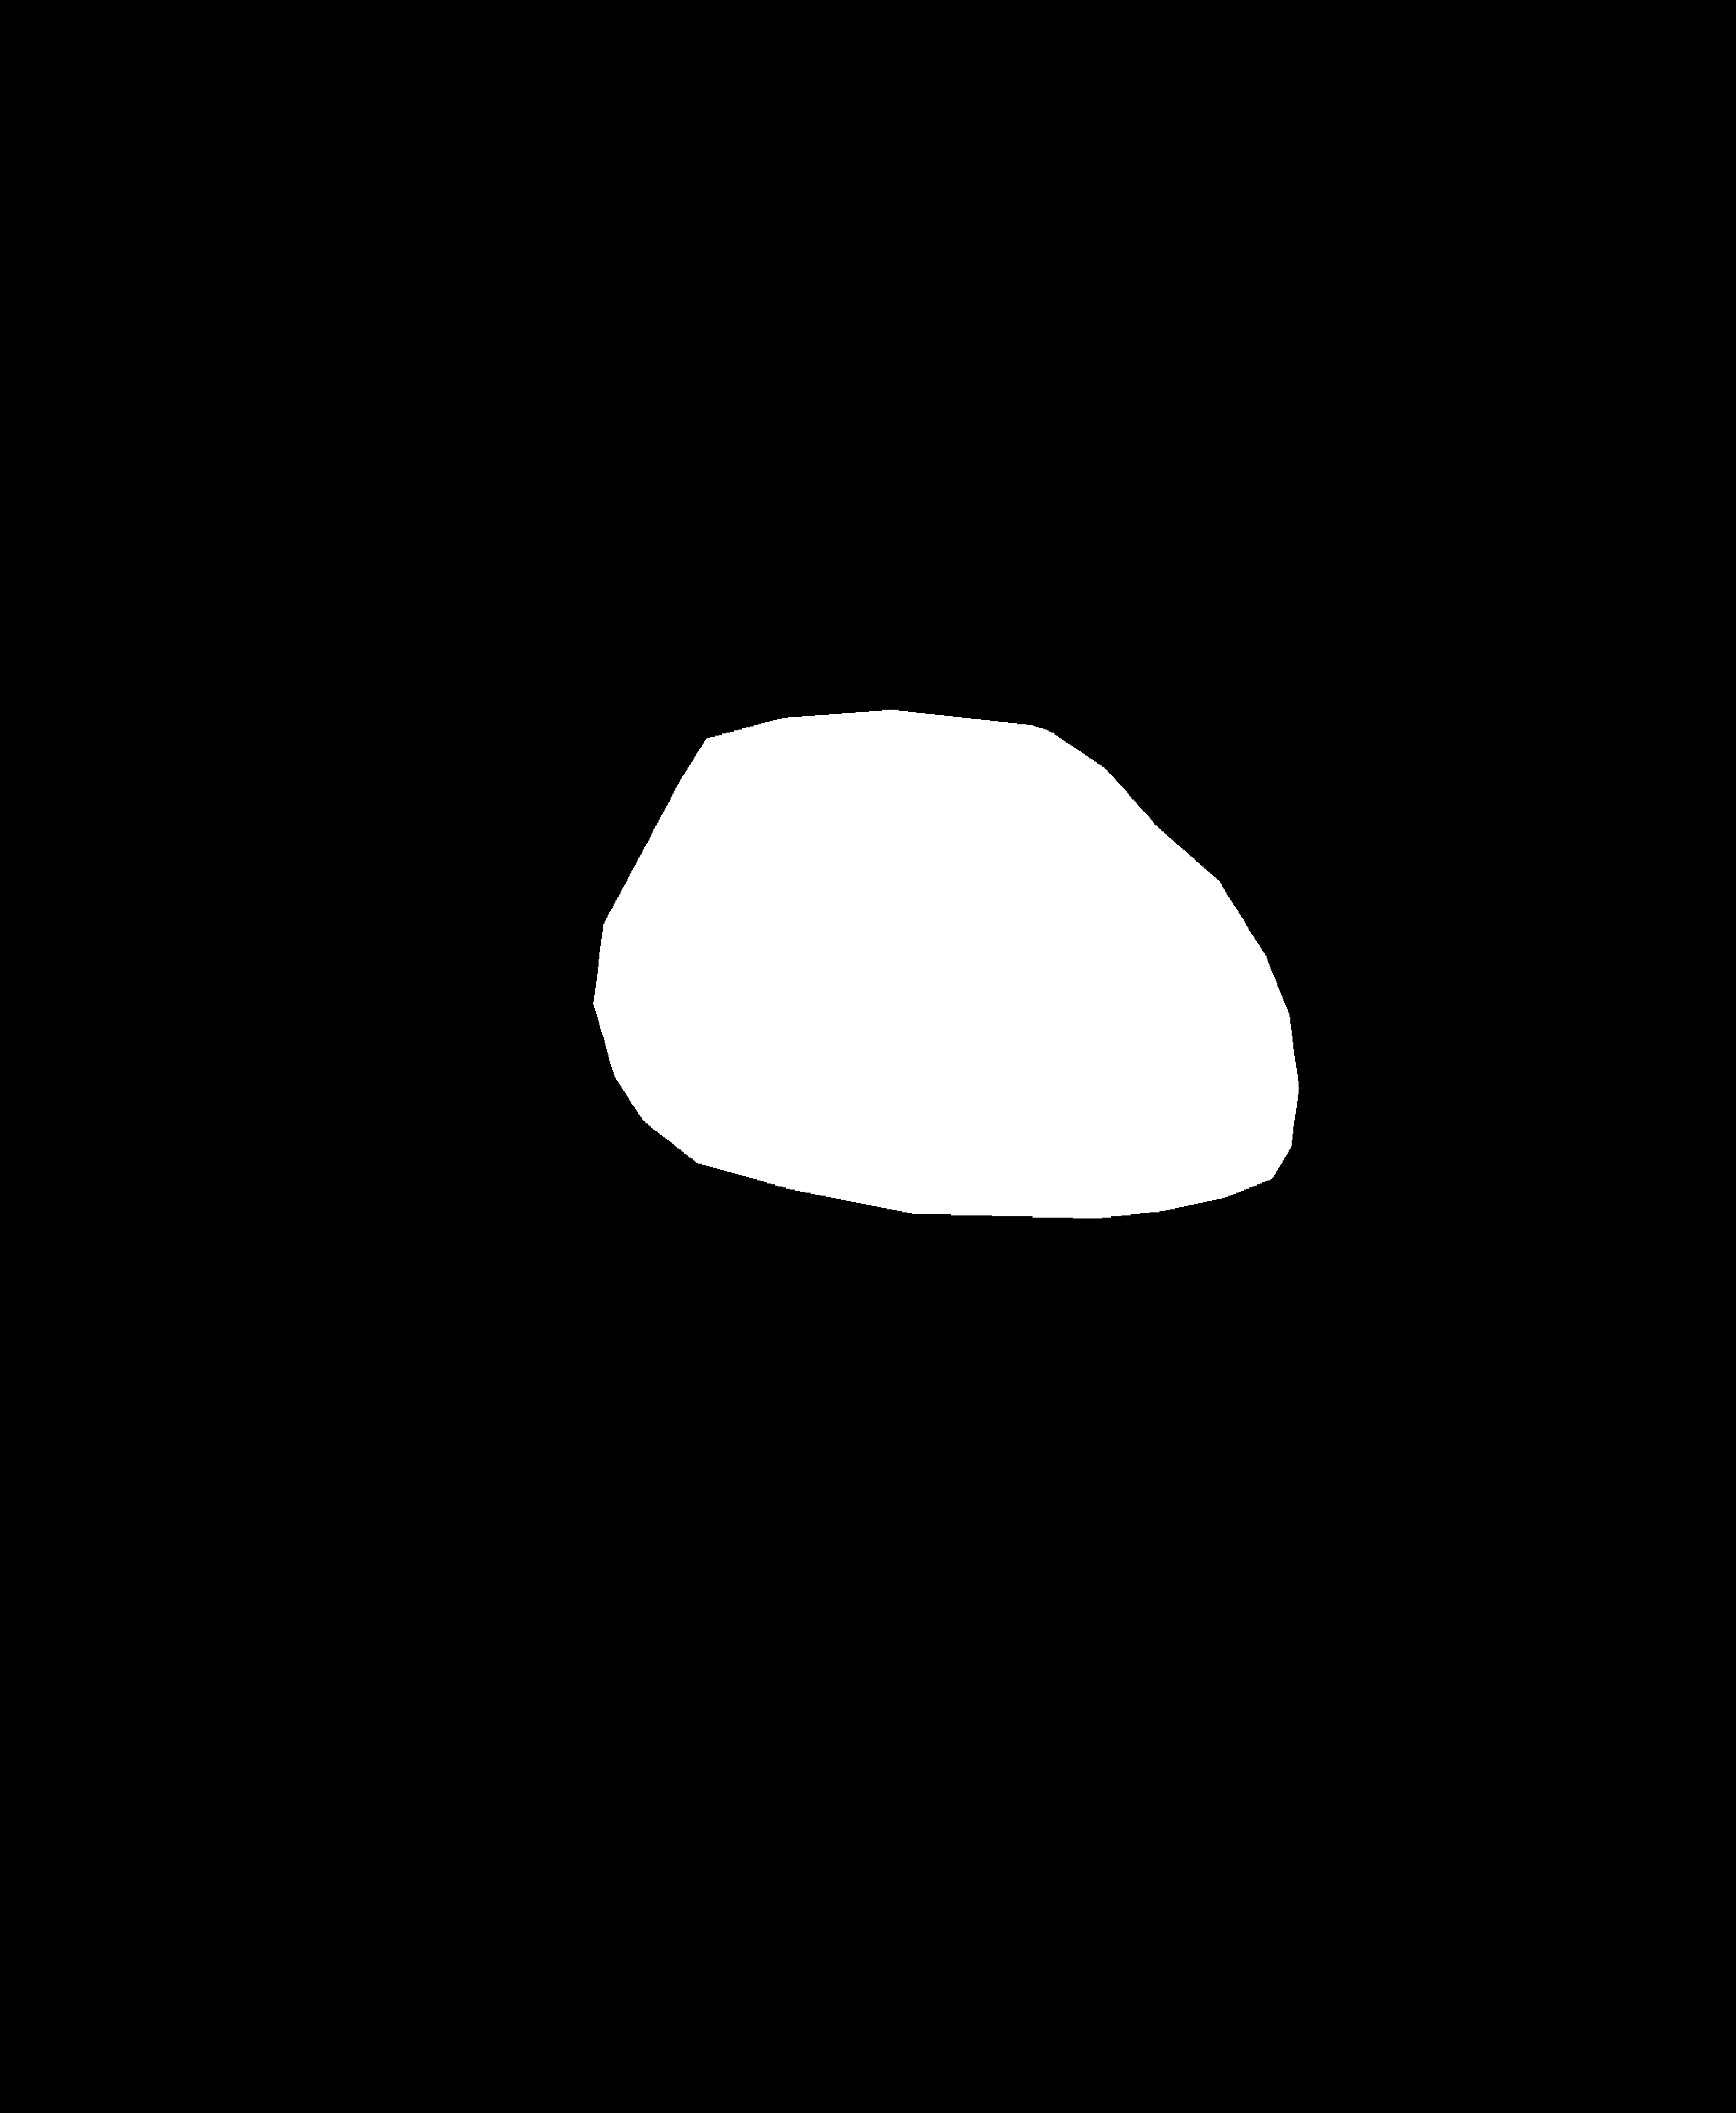heart: (599, 762, 1297, 1171)
left_lung: (188, 174, 785, 1325)
right_lung: (874, 158, 1522, 1281)
